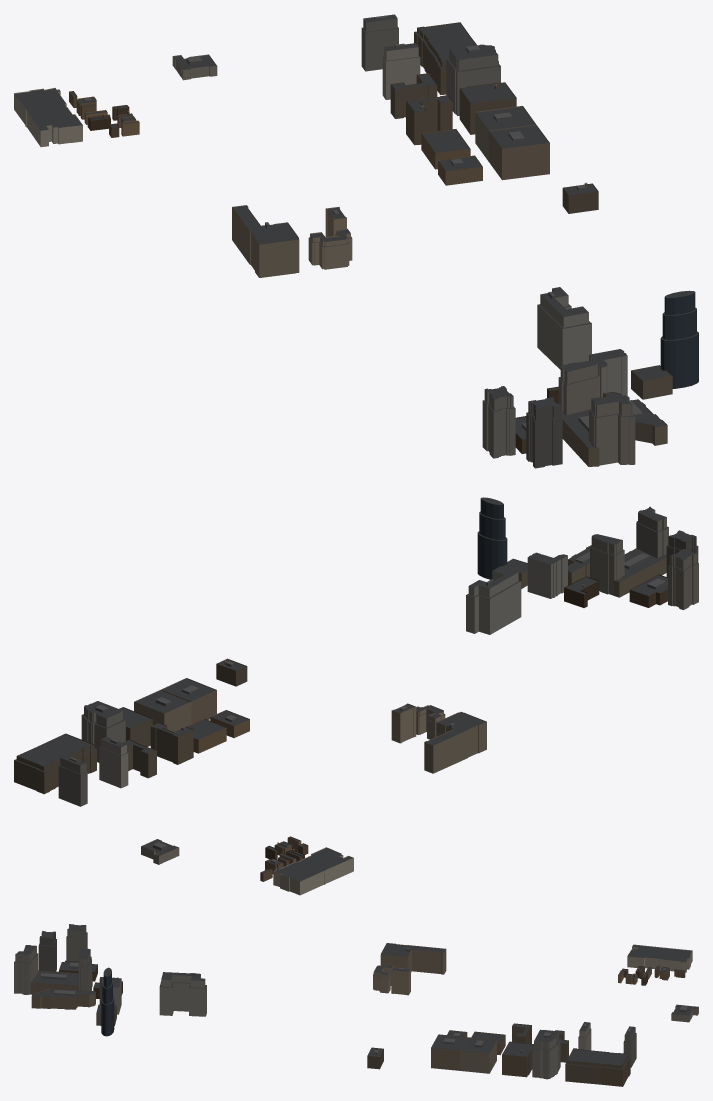
Rendered from manhattan_-04_-04.glb.
3 renders of one model, top to bottom at view 1: azimuth 30°, elevation 25°; view 2: azimuth 150°, elevation 25°; view 3: azimuth 270°, elevation 25°, orthographic. The views are drawn at different scales.
Parts seen in each view (by area): view 1: BLD_midrise_-04_-04, BLD_lowrise_-04_-04, BLD_towers_-04_-04; view 2: BLD_midrise_-04_-04, BLD_lowrise_-04_-04, BLD_towers_-04_-04; view 3: BLD_midrise_-04_-04, BLD_lowrise_-04_-04, BLD_towers_-04_-04.
Boxes of the visible parts, x1,y1,x2,y2 form: BLD_midrise_-04_-04: [232, 14, 672, 468]; BLD_lowrise_-04_-04: [14, 54, 558, 453]; BLD_towers_-04_-04: [558, 290, 698, 465]; BLD_midrise_-04_-04: [14, 530, 698, 806]; BLD_lowrise_-04_-04: [141, 574, 667, 895]; BLD_towers_-04_-04: [477, 497, 668, 595]; BLD_midrise_-04_-04: [30, 924, 636, 1086]; BLD_lowrise_-04_-04: [59, 944, 698, 1055]; BLD_towers_-04_-04: [14, 945, 114, 1036].
Bounding box in the file's own units: 653 × 135 × 1435.
